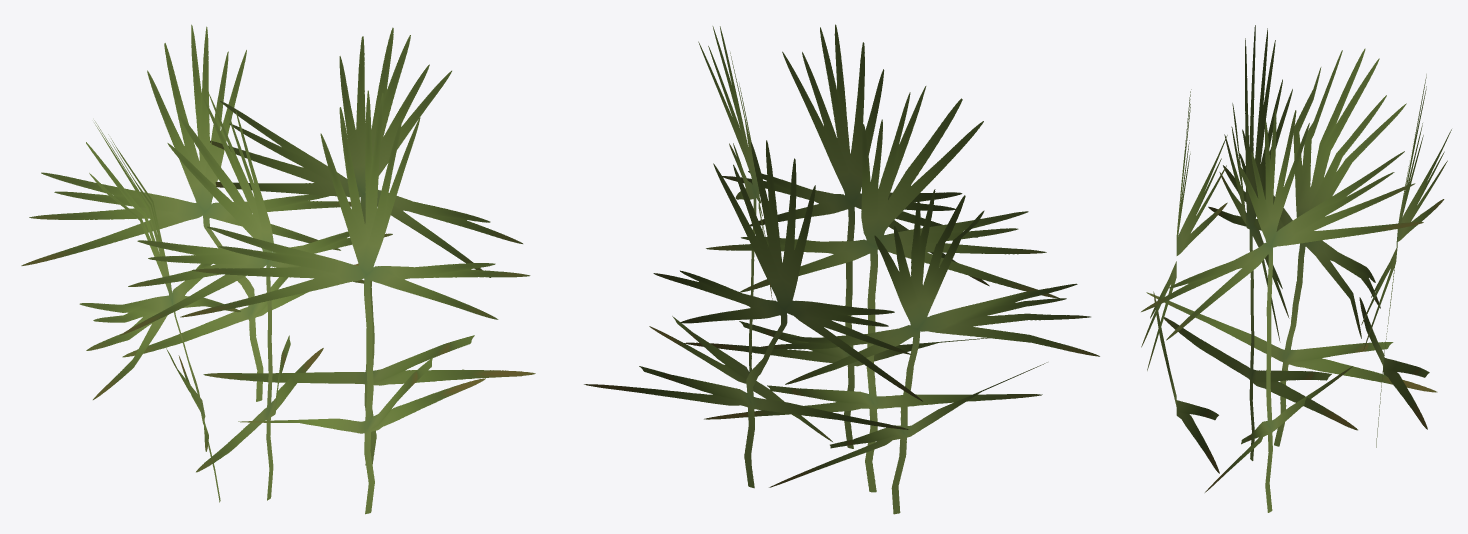
The model's file is WaterGrass_G1.fbx.
3 renders of one model, left to right at view 1: azimuth 30°, elevation 25°; view 2: azimuth 150°, elevation 25°; view 3: azimuth 270°, elevation 25°, orthographic. The views are drawn at different scales.
Visible parts, largest first — view 1: WaterGrass_G1; view 2: WaterGrass_G1; view 3: WaterGrass_G1.
Part boxes in pixels (<box>): WaterGrass_G1: <box>21,24,535,514</box>; WaterGrass_G1: <box>584,24,1099,514</box>; WaterGrass_G1: <box>1141,25,1451,512</box>.
Size of the model in its own units: 21.56 by 20.26 by 13.48.
